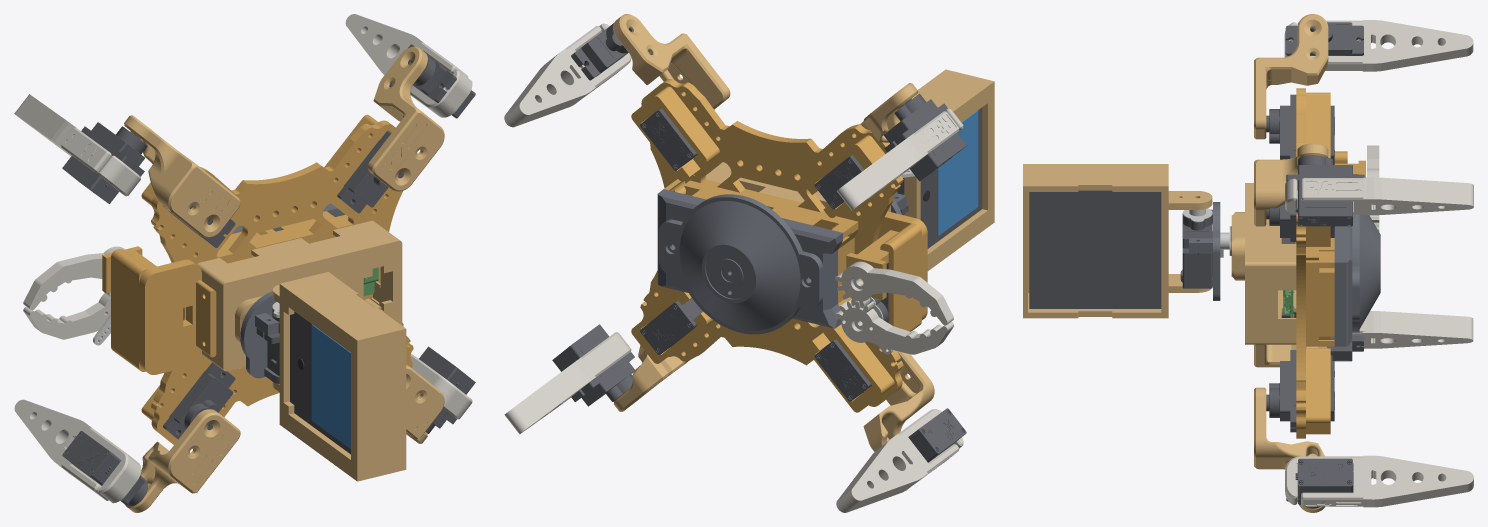
File: sesant_v3.glb
3 renders of one model, left to right at view 1: azimuth 30°, elevation 25°; view 2: azimuth 150°, elevation 25°; view 3: azimuth 270°, elevation 25°, orthographic. The views are drawn at different scales.
Visible parts, largest first — view 1: chassis, head, v3_body_cover, jaw_housing, femur_R2, femur_R1, femur_L1, blade_foot_L3, cores3_screen, blade_foot_R4, blade_foot_R3, knee_servo_FR (+12 smaller); view 2: chassis, belly_cone, head, femur_R2, blade_foot_L3, bottom_cover, jaw_housing, blade_foot_R4, blade_foot_R3, blade_foot_L4, cores3_screen, mandible_right (+14 smaller); view 3: cores3, chassis, head, v3_body_cover, blade_foot_L4, blade_foot_R4, blade_foot_R3, femur_R1, blade_foot_L3, belly_cone, knee_servo_BR, femur_R2 (+11 smaller).
Part boxes in pixels (box(x1,y1,x2,y2)): chassis: box(141, 114, 413, 444); head: box(272, 272, 406, 481); v3_body_cover: box(197, 220, 402, 371); jaw_housing: box(102, 246, 216, 374); femur_R2: box(367, 46, 444, 191); femur_R1: box(124, 115, 240, 237); femur_L1: box(125, 409, 240, 512); blade_foot_L3: box(14, 399, 141, 503); cores3_screen: box(311, 324, 350, 448); blade_foot_R4: box(345, 14, 472, 117); blade_foot_R3: box(14, 94, 140, 196); knee_servo_FR: box(62, 122, 147, 203); chassis: box(631, 79, 903, 412); belly_cone: box(658, 194, 823, 334); head: box(904, 69, 994, 270); femur_R2: box(613, 14, 730, 109); blade_foot_L3: box(836, 409, 963, 512); bottom_cover: box(657, 189, 842, 328); jaw_housing: box(846, 211, 927, 331); blade_foot_R4: box(504, 23, 631, 127); blade_foot_R3: box(837, 108, 963, 210); blade_foot_L4: box(504, 332, 631, 434); cores3_screen: box(937, 110, 978, 235); mandible_right: box(835, 261, 953, 325); cores3: box(1029, 190, 1161, 308); chassis: box(1296, 88, 1334, 438); head: box(1023, 164, 1212, 318); v3_body_cover: box(1231, 183, 1296, 344); blade_foot_L4: box(1285, 455, 1473, 507); blade_foot_R4: box(1285, 177, 1473, 215); blade_foot_R3: box(1284, 20, 1473, 71); femur_R1: box(1254, 14, 1328, 139); blade_foot_L3: box(1352, 311, 1473, 348); belly_cone: box(1352, 214, 1380, 332); knee_servo_BR: box(1286, 155, 1364, 226); femur_R2: box(1254, 143, 1328, 226).
Bounding box in the file's own units: 181 × 167 × 185.
